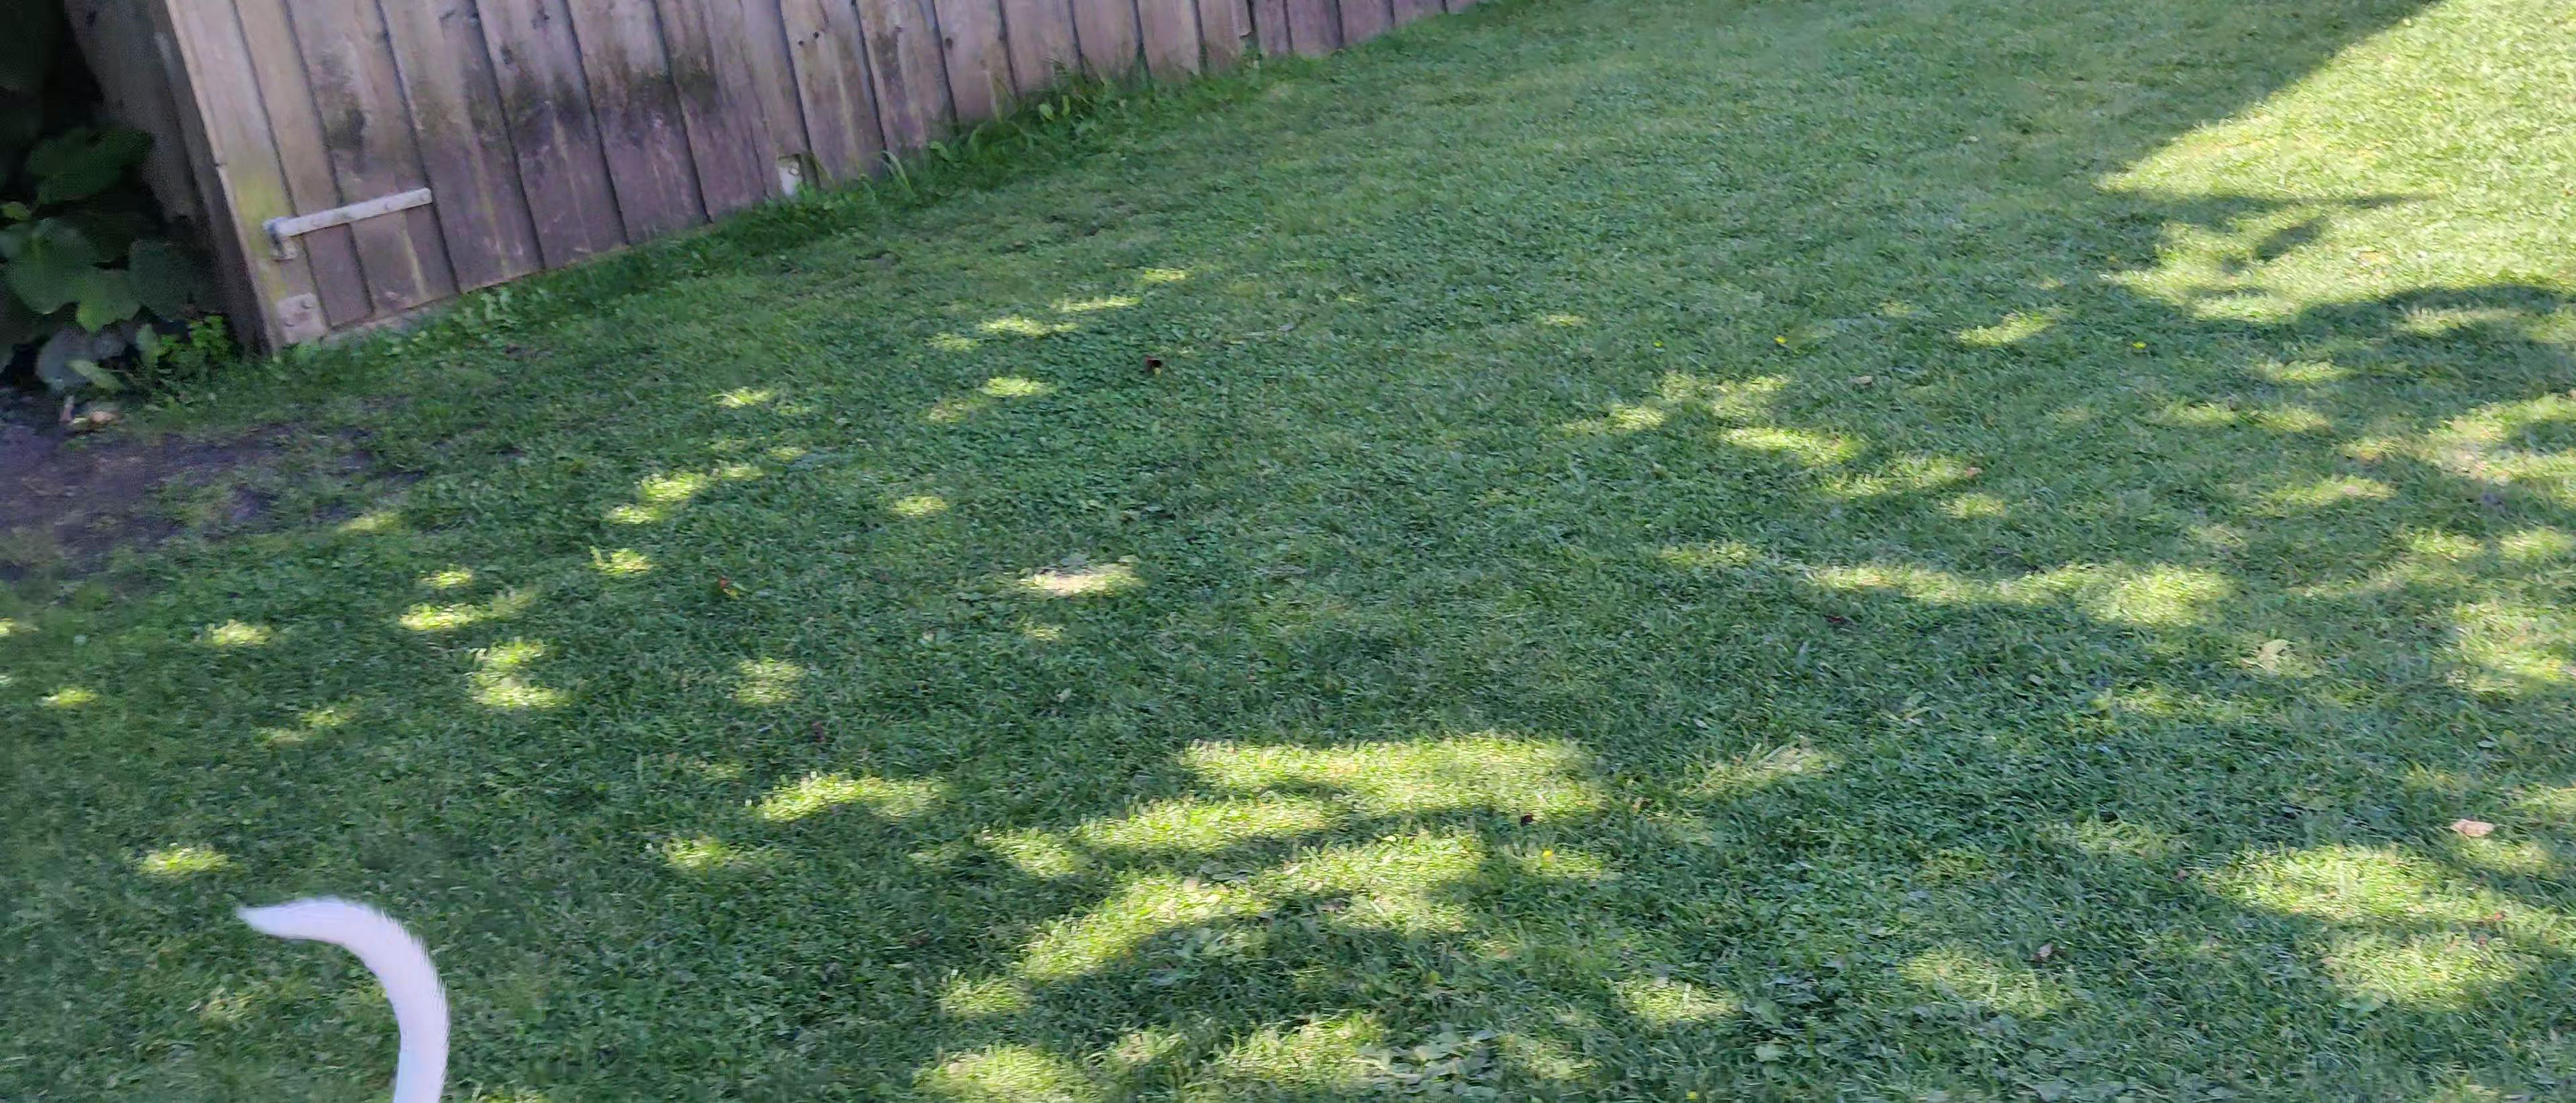Dog: (197, 886, 471, 1103)
